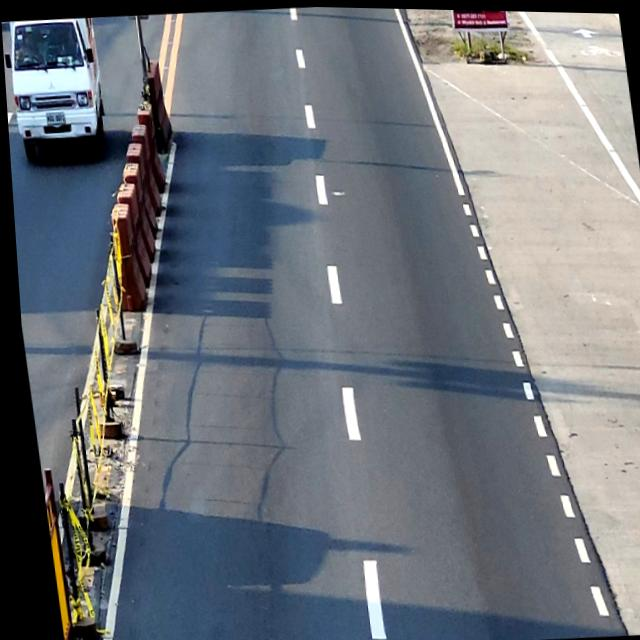Car: (1, 15, 109, 164)
License-Plate: (43, 111, 64, 125)
